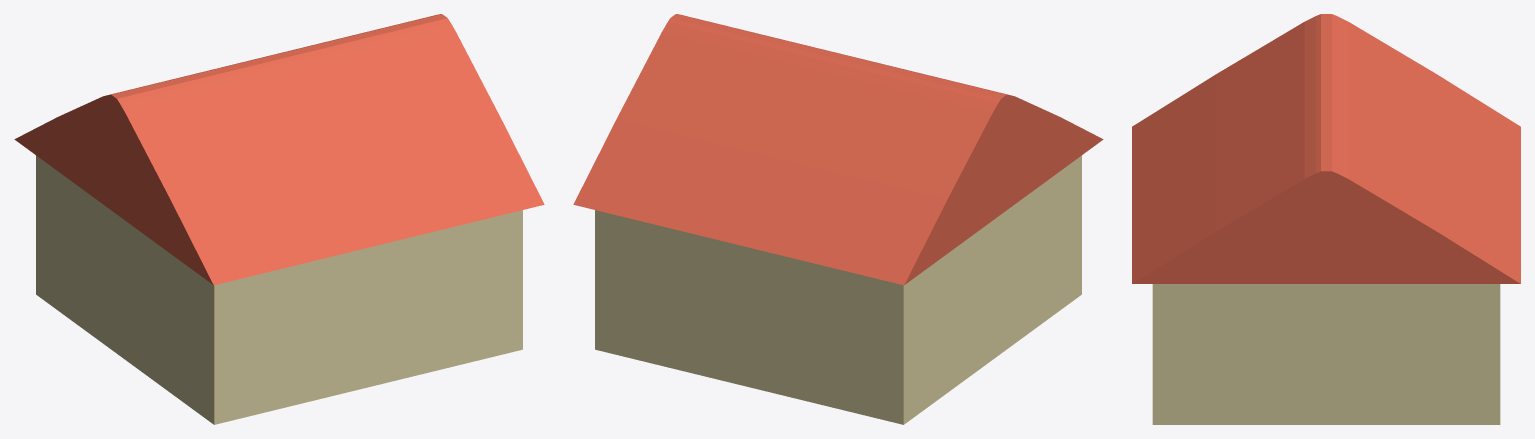
File: SimpleHouse.fbx
The picture shows the model from 3 angles, left to right: view 1: azimuth 30°, elevation 25°; view 2: azimuth 150°, elevation 25°; view 3: azimuth 270°, elevation 25°; orthographic projection. The views are drawn at different scales.
Parts seen in each view (by area): view 1: Cube; view 2: Cube; view 3: Cube.
Part boxes in pixels (x1,y1,x2,y2): Cube: [14, 14, 544, 424]; Cube: [573, 14, 1103, 424]; Cube: [1132, 14, 1520, 424].
Size of the model in its own units: 214 by 164 by 224.
